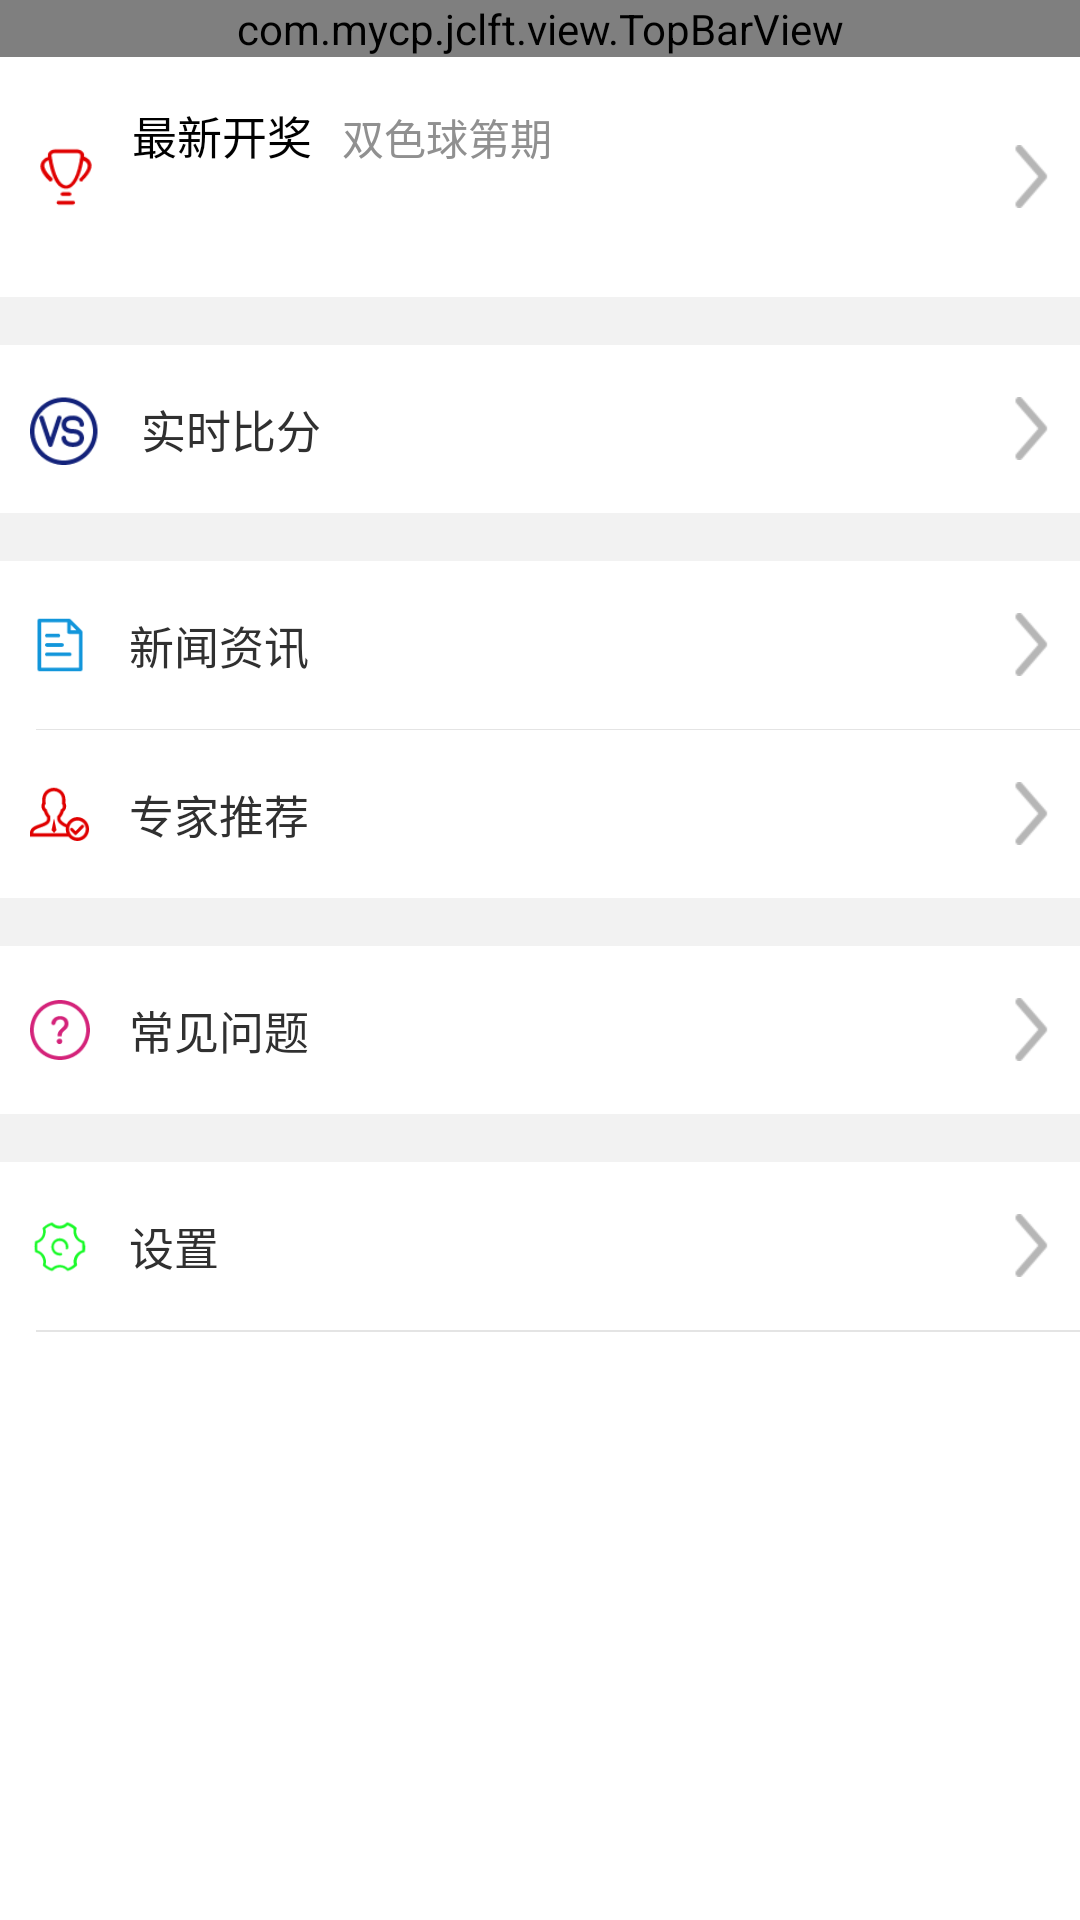

Screen size 1080×1920. Icon name, then its box in pixels as (x1, y1, x2, y2):
bifen: (30, 397, 98, 465)
news: (37, 618, 83, 672)
pro: (30, 787, 89, 841)
right arrow: (1015, 145, 1047, 208), (1015, 397, 1047, 460), (1015, 613, 1047, 676), (1015, 782, 1047, 845), (1015, 998, 1047, 1061), (1015, 1214, 1047, 1277)
setting: (34, 1222, 86, 1272)
